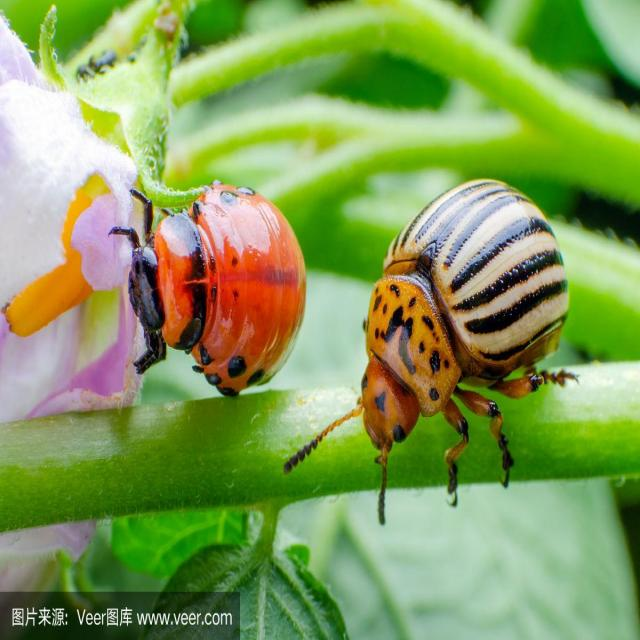ShuCaiHuaBanChong-Grown-: (347, 158, 547, 474)
ShuCaiHuaBanChong-Larva-: (135, 141, 307, 413)
